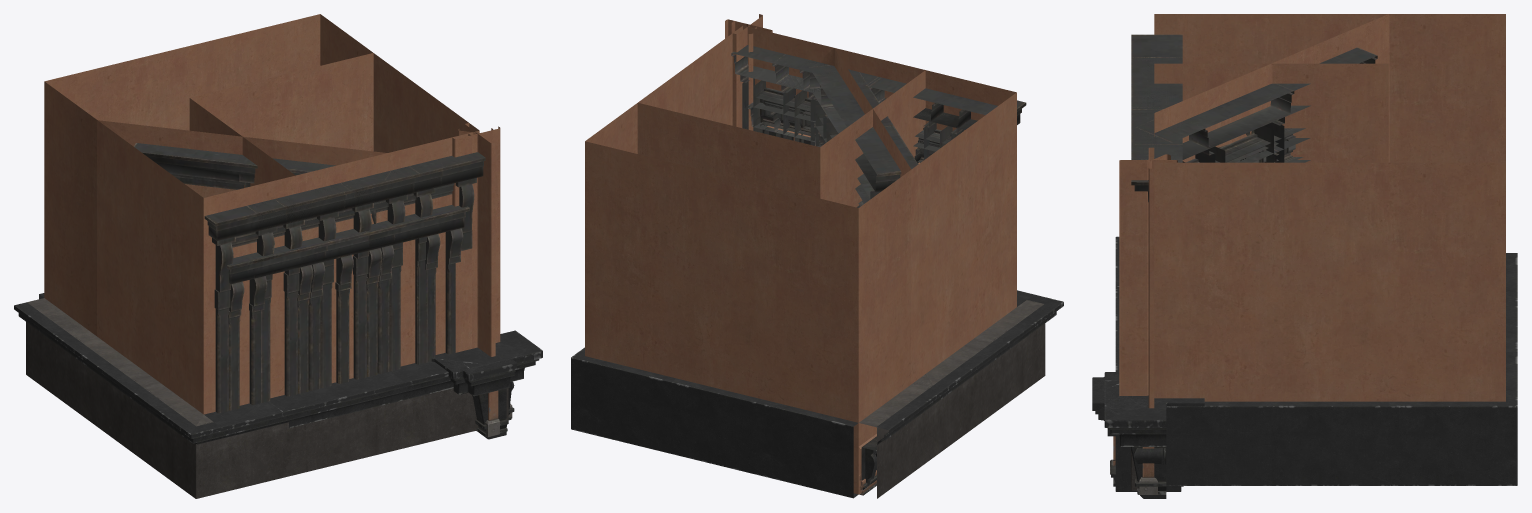
The model's file is flats_kit.glb.
3 views of the same model, side by side, from view 1: azimuth 30°, elevation 25°; view 2: azimuth 150°, elevation 25°; view 3: azimuth 270°, elevation 25° (orthographic). The views are drawn at different scales.
Parts seen in each view (by area): view 1: wall_standard_corner_large_01, base_corner_large_01, wall_standard_corner_large_02, wall_standard_corner_small_02, wall_door_angled_large_01, door_centered_small_01, wall_standard_angled_large_01, door_window_small_04, wall_pier_corner_02, crown_standard_corner_large_01, door_centered_large_01, door_window_small_03 (+32 smaller); view 2: wall_standard_corner_large_02, wall_standard_corner_large_01, crown_standard_corner_large_02, wall_door_angled_large_01, base_corner_large_01, wall_standard_corner_small_02, wall_standard_angled_large_01, crown_standard_corner_large_01, wall_door_angled_small_01, door_angled_large_01, door_centered_large_01, door_angled_small_01 (+19 smaller); view 3: wall_standard_corner_small_02, wall_standard_corner_large_02, crown_standard_corner_large_02, wall_standard_corner_large_01, crown_standard_corner_small_02, wall_standard_corner_small_01, wall_pier_corner_02, door_angled_small_01, crown_pier_angled_01, door_angled_large_01, wall_standard_angled_large_01, door_centered_large_01 (+13 smaller).
Boxes of the visible parts, <box> form: wall_standard_corner_large_01: <box>97,120,295,414</box>; base_corner_large_01: <box>26,299,476,498</box>; wall_standard_corner_large_02: <box>45,14,479,152</box>; wall_standard_corner_small_02: <box>190,53,373,151</box>; wall_door_angled_large_01: <box>44,81,362,330</box>; door_centered_small_01: <box>274,166,420,396</box>; wall_standard_angled_large_01: <box>44,104,338,335</box>; door_window_small_04: <box>204,183,469,413</box>; wall_pier_corner_02: <box>452,134,495,356</box>; crown_standard_corner_large_01: <box>14,302,393,444</box>; door_centered_large_01: <box>247,161,447,402</box>; door_window_small_03: <box>227,158,485,410</box>; wall_standard_corner_large_02: <box>585,26,858,494</box>; wall_standard_corner_large_01: <box>911,92,1016,384</box>; crown_standard_corner_large_02: <box>571,347,858,498</box>; wall_door_angled_large_01: <box>833,48,910,493</box>; base_corner_large_01: <box>877,300,1045,498</box>; wall_standard_corner_small_02: <box>637,103,820,198</box>; wall_standard_angled_large_01: <box>833,48,910,491</box>; crown_standard_corner_large_01: <box>861,294,1063,495</box>; wall_door_angled_small_01: <box>820,48,872,207</box>; door_angled_large_01: <box>820,85,918,206</box>; door_centered_large_01: <box>772,54,970,160</box>; door_angled_small_01: <box>809,65,893,146</box>; wall_standard_corner_small_02: <box>1154,162,1388,401</box>; wall_standard_corner_large_02: <box>1388,162,1505,401</box>; crown_standard_corner_large_02: <box>1166,253,1517,485</box>; wall_standard_corner_large_01: <box>1154,14,1505,162</box>; crown_standard_corner_small_02: <box>1166,406,1398,485</box>; wall_standard_corner_small_01: <box>1154,63,1388,162</box>; wall_pier_corner_02: <box>1119,147,1154,395</box>; door_angled_small_01: <box>1136,83,1294,162</box>; crown_pier_angled_01: <box>1104,383,1170,498</box>; door_angled_large_01: <box>1189,47,1377,162</box>; wall_standard_angled_large_01: <box>1154,14,1387,162</box>; door_centered_large_01: <box>1131,57,1182,159</box>.
Size of the model in its own units: 3.78 by 3.06 by 3.63.
5 materials, 5 textured.
